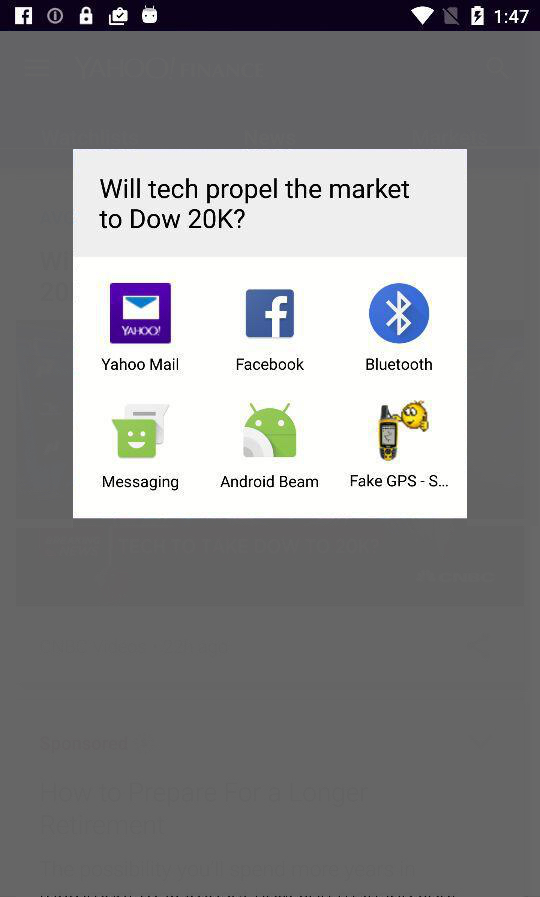Icon: (369, 283, 430, 345), (246, 289, 295, 338)
Image: (110, 283, 172, 345), (377, 398, 430, 462), (112, 403, 171, 459), (243, 403, 297, 458)
Modal: (73, 149, 468, 520)
Text: (99, 177, 410, 230), (350, 473, 449, 488), (220, 475, 320, 489), (103, 475, 180, 492), (101, 357, 180, 372), (365, 358, 433, 372), (237, 358, 305, 371)
UpperTaskBar: (1, 1, 540, 33)
